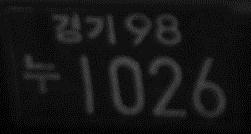0: (107, 54, 146, 118)
1: (70, 54, 103, 115)
2: (149, 55, 188, 120)
6: (190, 55, 228, 119)
8: (155, 10, 183, 47)
9: (124, 11, 153, 47)
경기_O: (50, 12, 118, 46)
누: (22, 53, 61, 95)
